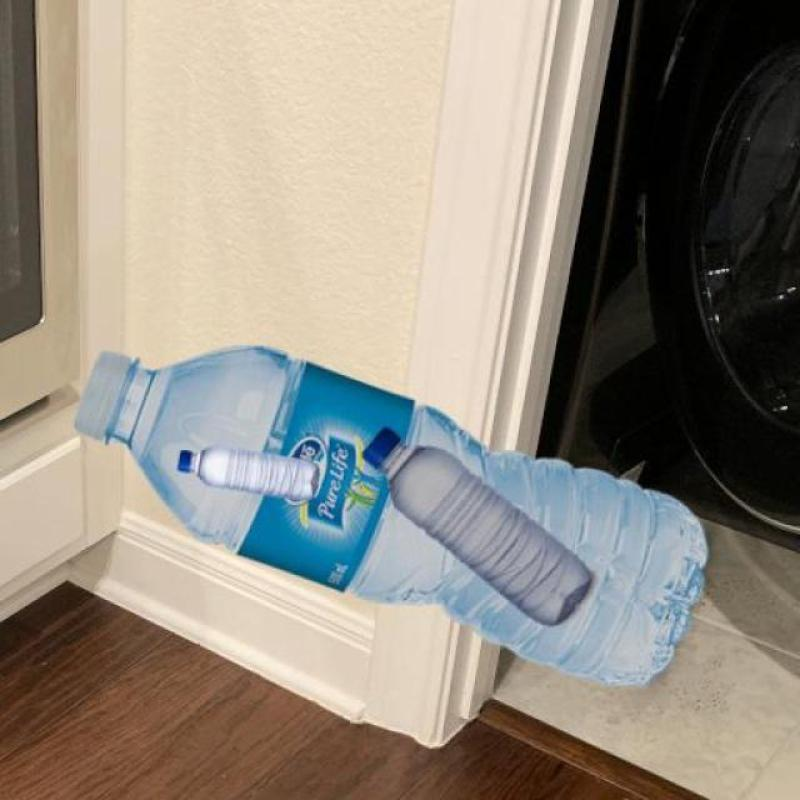botella: (75, 351, 706, 689), (361, 428, 591, 622), (174, 446, 321, 506)
